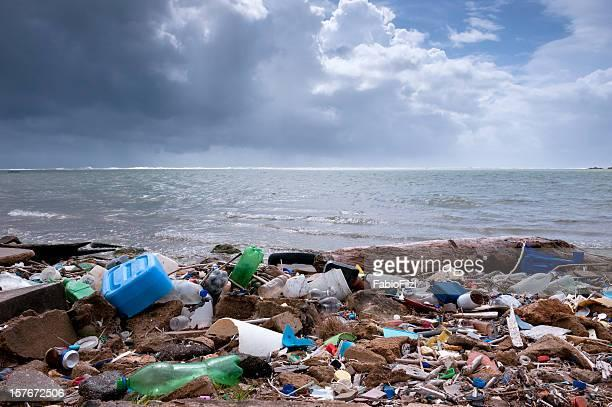garbage: (0, 235, 612, 407)
